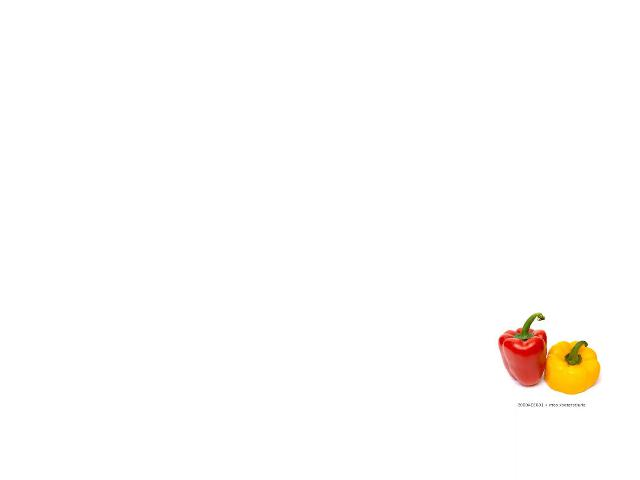bell_pepper: (542, 336, 602, 399)
